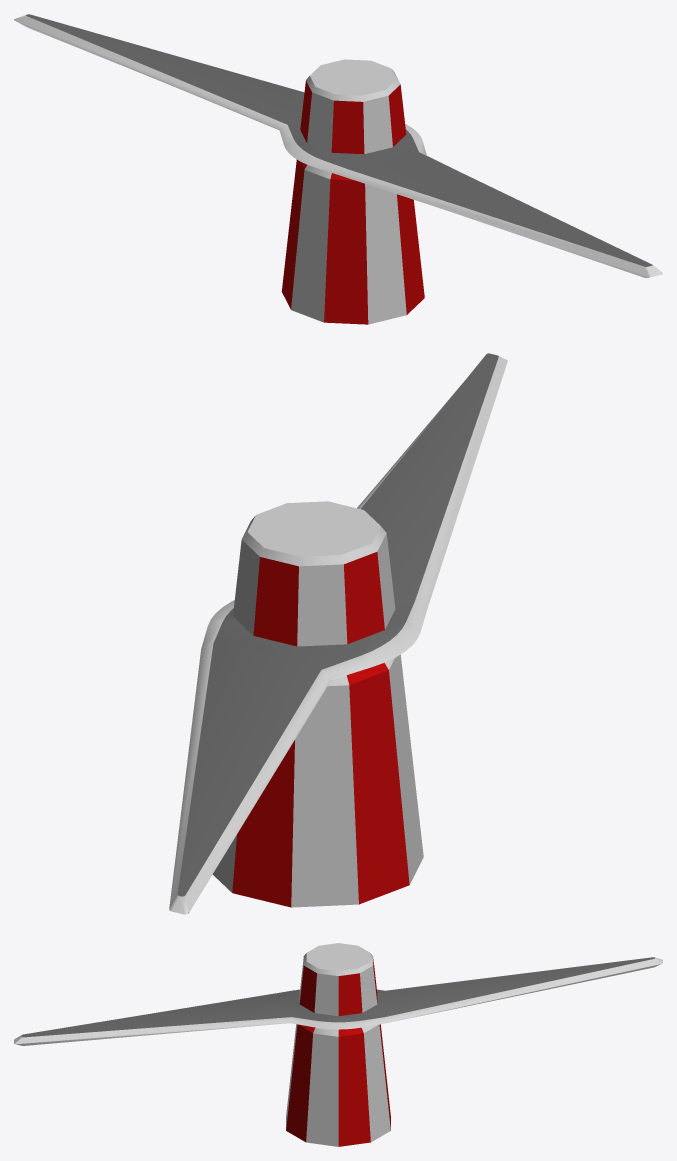
The model's file is Spinning Blade.fbx.
3 renders of one model, top to bottom at view 1: azimuth 30°, elevation 25°; view 2: azimuth 150°, elevation 25°; view 3: azimuth 270°, elevation 25°, orthographic. The views are drawn at different scales.
Visible parts, largest first — view 1: pCylinder1, pCube1; view 2: pCylinder1, pCube1; view 3: pCylinder1, pCube1.
Part boxes in pixels (x1,y1,x2,y2): pCylinder1: (281,59,424,324); pCube1: (14,14,662,278); pCylinder1: (212,501,423,907); pCube1: (169,353,507,914); pCylinder1: (286,943,390,1146); pCube1: (14,957,662,1045).
Size of the model in its own units: 2.22 by 2.03 by 7.17.
